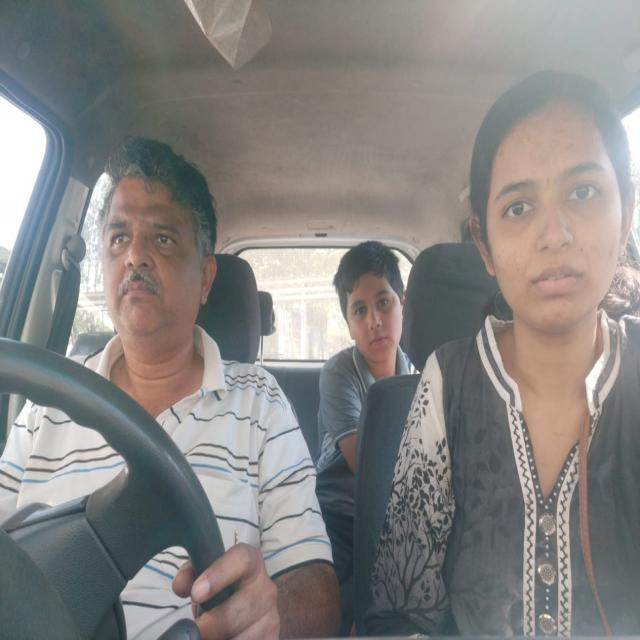person: (468, 58, 636, 341), (99, 136, 222, 352), (328, 235, 418, 371)
